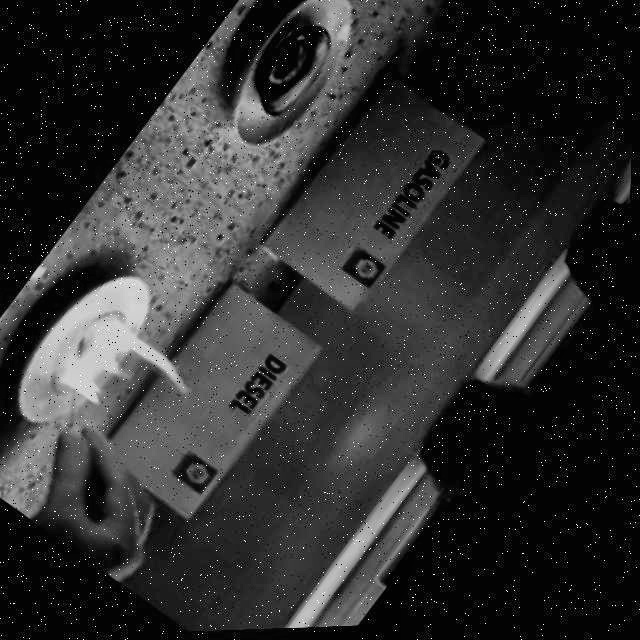Fire: (44, 300, 215, 460)
